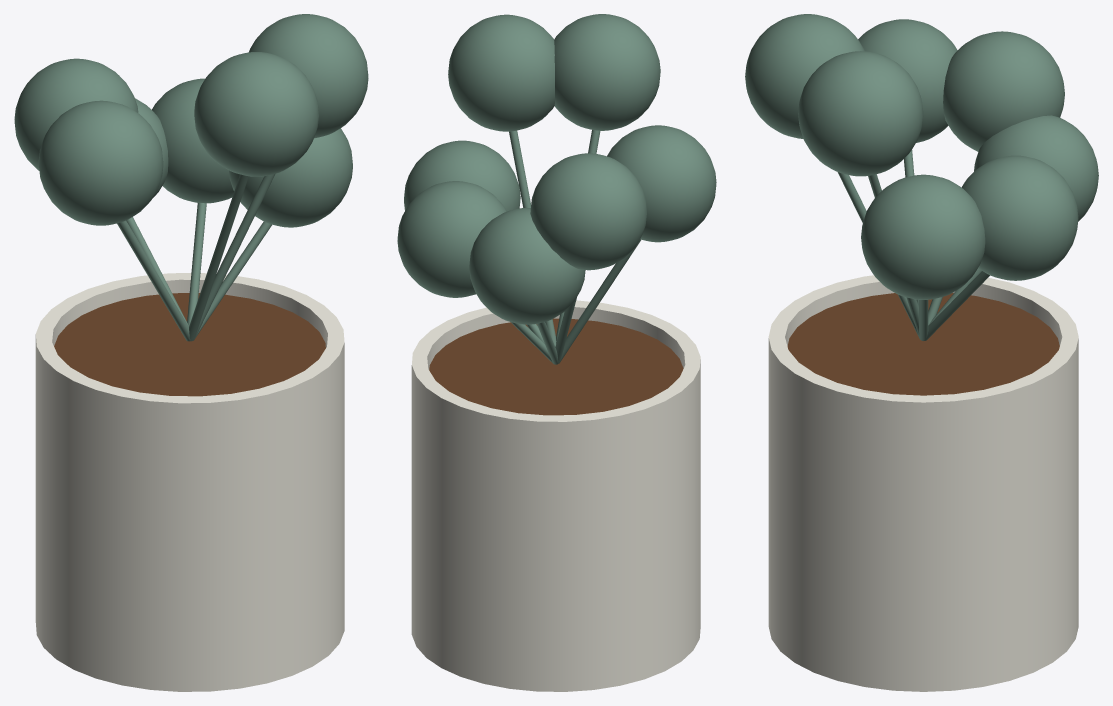
The model's file is terrace-planter.gltf.
3 renders of one model, left to right at view 1: azimuth 30°, elevation 25°; view 2: azimuth 150°, elevation 25°; view 3: azimuth 270°, elevation 25°, orthographic. The views are drawn at different scales.
Parts seen in each view (by area): view 1: Terrace planter, Terrace planter soil, Terrace planter leaf 2, Terrace planter leaf 4, Terrace planter leaf 5, Terrace planter leaf 0, Terrace planter leaf 1, Terrace planter leaf 3, Terrace planter stem 2, Terrace planter stem 5, Terrace planter stem 4, Terrace planter stem 3 (+3 smaller); view 2: Terrace planter, Terrace planter soil, Terrace planter leaf 1, Terrace planter leaf 5, Terrace planter leaf 2, Terrace planter leaf 6, Terrace planter leaf 3, Terrace planter leaf 4, Terrace planter leaf 0, Terrace planter stem 4, Terrace planter stem 5; view 3: Terrace planter, Terrace planter soil, Terrace planter leaf 5, Terrace planter leaf 0, Terrace planter leaf 3, Terrace planter leaf 1, Terrace planter leaf 2, Terrace planter leaf 6, Terrace planter leaf 4, Terrace planter stem 3, Terrace planter stem 2.
Boxes of the visible parts, bbox=[...] form: Terrace planter: bbox=[35, 273, 344, 691]; Terrace planter soil: bbox=[54, 293, 325, 396]; Terrace planter leaf 2: bbox=[194, 52, 318, 176]; Terrace planter leaf 4: bbox=[38, 100, 163, 225]; Terrace planter leaf 5: bbox=[249, 14, 368, 138]; Terrace planter leaf 0: bbox=[229, 128, 352, 227]; Terrace planter leaf 1: bbox=[14, 58, 138, 170]; Terrace planter leaf 3: bbox=[152, 78, 234, 203]; Terrace planter stem 2: bbox=[189, 174, 248, 341]; Terrace planter stem 5: bbox=[195, 174, 275, 337]; Terrace planter stem 4: bbox=[117, 221, 190, 341]; Terrace planter stem 3: bbox=[187, 203, 206, 326]; Terrace planter: bbox=[411, 300, 700, 691]; Terrace planter soil: bbox=[429, 318, 683, 415]; Terrace planter leaf 1: bbox=[530, 153, 647, 270]; Terrace planter leaf 5: bbox=[448, 14, 554, 131]; Terrace planter leaf 2: bbox=[554, 14, 660, 130]; Terrace planter leaf 6: bbox=[469, 207, 585, 324]; Terrace planter leaf 3: bbox=[397, 181, 506, 297]; Terrace planter leaf 4: bbox=[607, 125, 716, 242]; Terrace planter leaf 0: bbox=[404, 140, 520, 211]; Terrace planter stem 4: bbox=[559, 239, 640, 363]; Terrace planter stem 5: bbox=[509, 130, 556, 346]; Terrace planter: bbox=[768, 275, 1078, 691]; Terrace planter soil: bbox=[787, 293, 1059, 395]; Terrace planter leaf 5: bbox=[798, 51, 923, 176]; Terrace planter leaf 0: bbox=[861, 174, 985, 299]; Terrace planter leaf 3: bbox=[961, 155, 1078, 280]; Terrace planter leaf 1: bbox=[943, 31, 1064, 151]; Terrace planter leaf 2: bbox=[745, 14, 864, 138]; Terrace planter leaf 6: bbox=[974, 115, 1098, 221]; Terrace planter leaf 4: bbox=[858, 19, 957, 142]; Terrace planter stem 3: bbox=[925, 271, 989, 340]; Terrace planter stem 2: bbox=[837, 172, 919, 338].
Bounding box in the file's own units: 0.3906 × 0.7387 × 0.3878.
